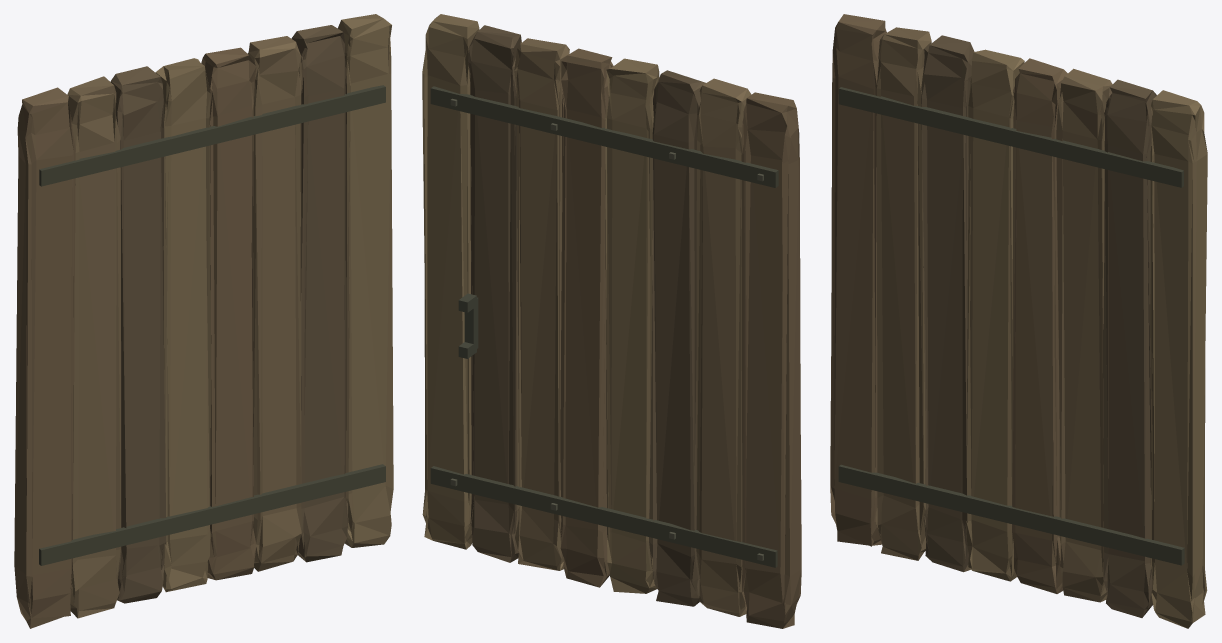
File: Porte_Accueil.fbx
The picture shows the model from 3 angles, left to right: view 1: azimuth 30°, elevation 25°; view 2: azimuth 150°, elevation 25°; view 3: azimuth 330°, elevation 25°; orthographic projection.
Visible parts, largest first — view 1: Porte_Planches, Ferrures; view 2: Porte_Planches, Ferrures; view 3: Porte_Planches, Ferrures.
Part boxes in pixels (x1,y1,x2,y2): Porte_Planches: (14,14,393,628); Ferrures: (39,85,385,565); Porte_Planches: (422,14,801,628); Ferrures: (430,86,778,567); Porte_Planches: (830,14,1207,628); Ferrures: (838,87,1184,565).
Bounding box in the file's own units: 184 × 252 × 23.6.
